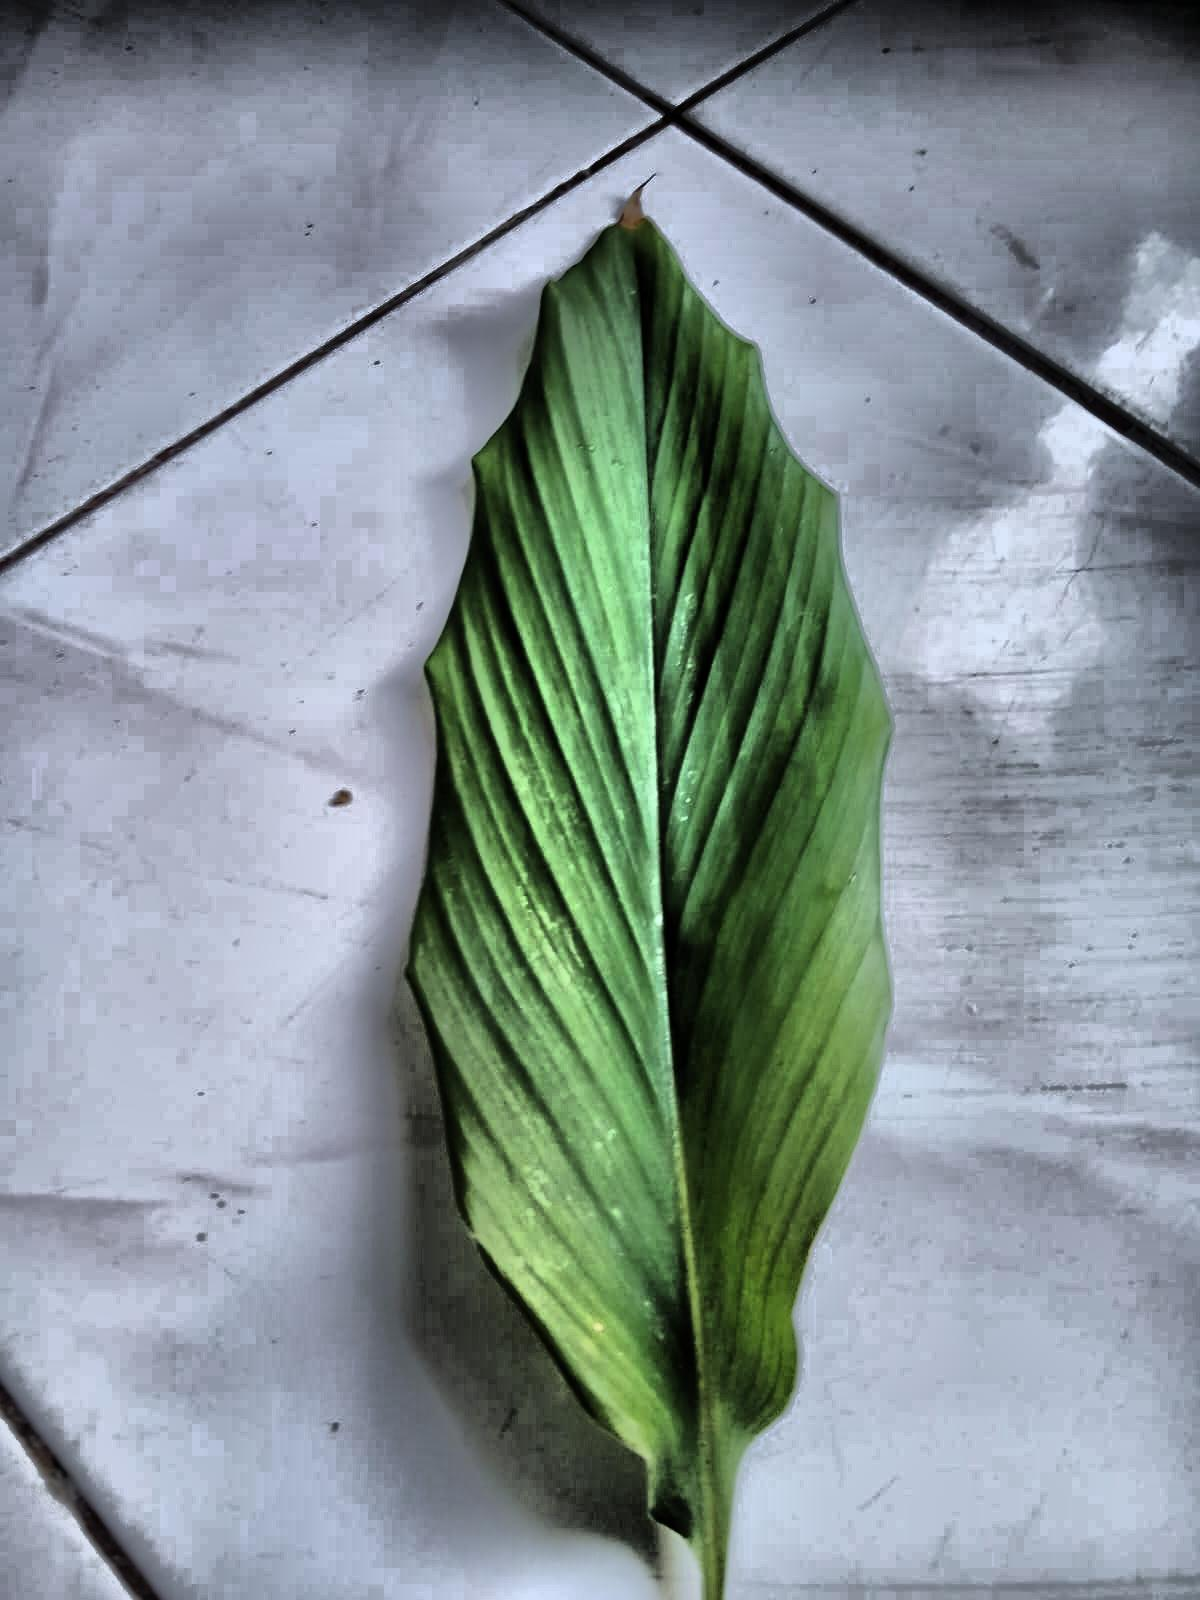daun kunyit: (410, 209, 890, 1599)
